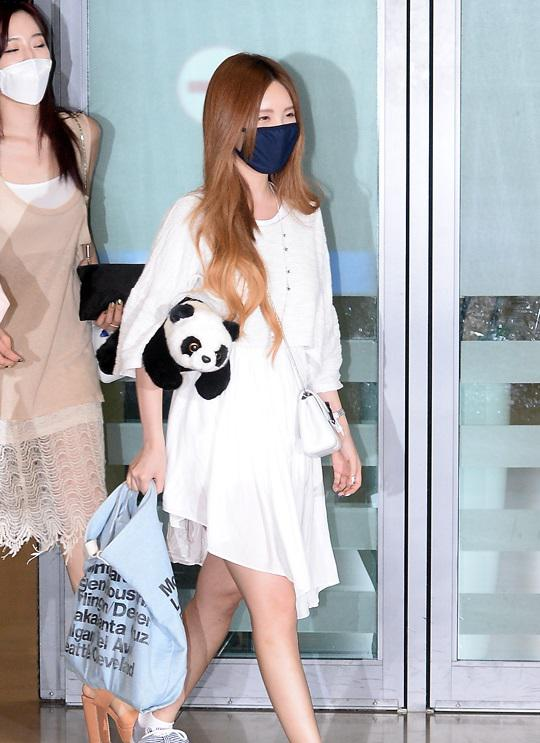OK: (230, 96, 303, 176), (1, 26, 54, 104)
